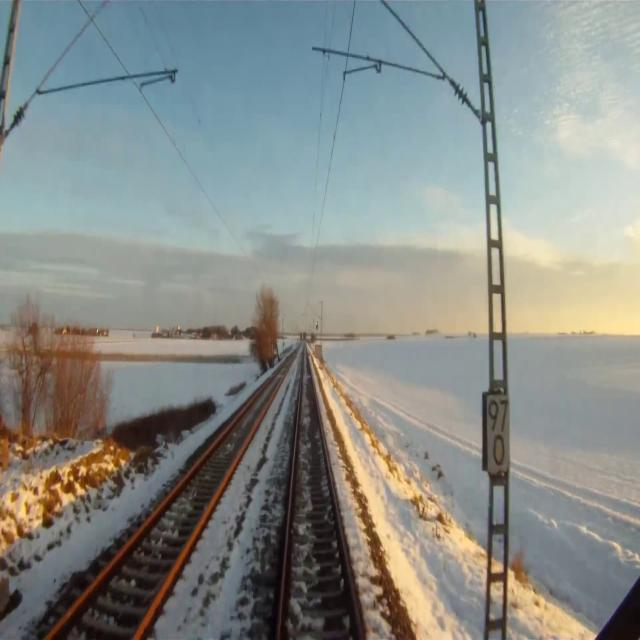rail-track: (51, 358, 290, 639), (280, 351, 359, 639)
